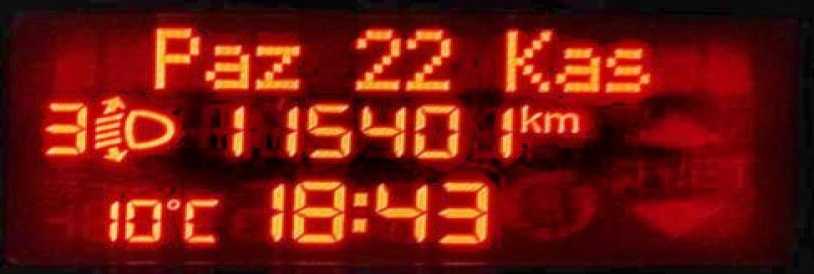0: (411, 103, 463, 160), (123, 196, 162, 244)
1: (225, 103, 247, 158), (267, 180, 285, 240), (494, 104, 514, 158), (280, 101, 299, 156), (105, 198, 121, 242)
2: (399, 24, 454, 90), (349, 25, 402, 91)
3: (432, 178, 491, 245), (41, 99, 90, 155)
4: (374, 180, 429, 244), (357, 103, 409, 159)
5: (304, 100, 352, 157)
8: (290, 178, 347, 244)
X: (499, 28, 554, 92), (152, 24, 202, 90), (248, 41, 302, 90), (553, 43, 603, 94), (601, 44, 651, 95), (202, 41, 252, 90), (178, 196, 220, 245), (541, 108, 581, 133), (347, 188, 369, 233), (519, 103, 541, 132)
